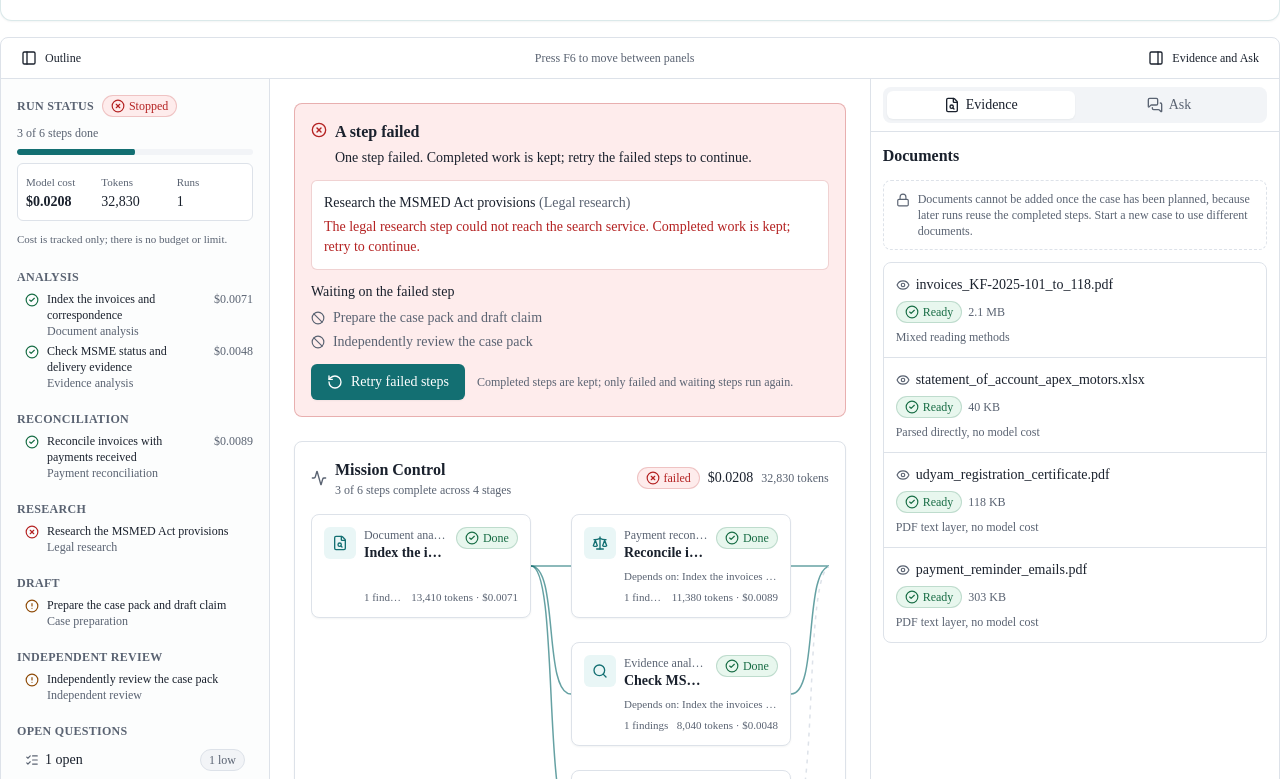
Test: CaseWorkspace › shows the failed step, blocked steps, and retries only what failed
(page scrolled)
Check: the text with test id "task-last-error" shows "The legal research step could not reach the search service. Completed work is kept; retry to continue.", box [324,219,790,254]
Check: the text with test id "run-error" reads "One step failed. Completed work is kept; retry the failed steps to continue.", box [335,150,752,165]
Click the button "Retry failed steps" at (388, 382), box [311,364,465,400]
(page scrolled)
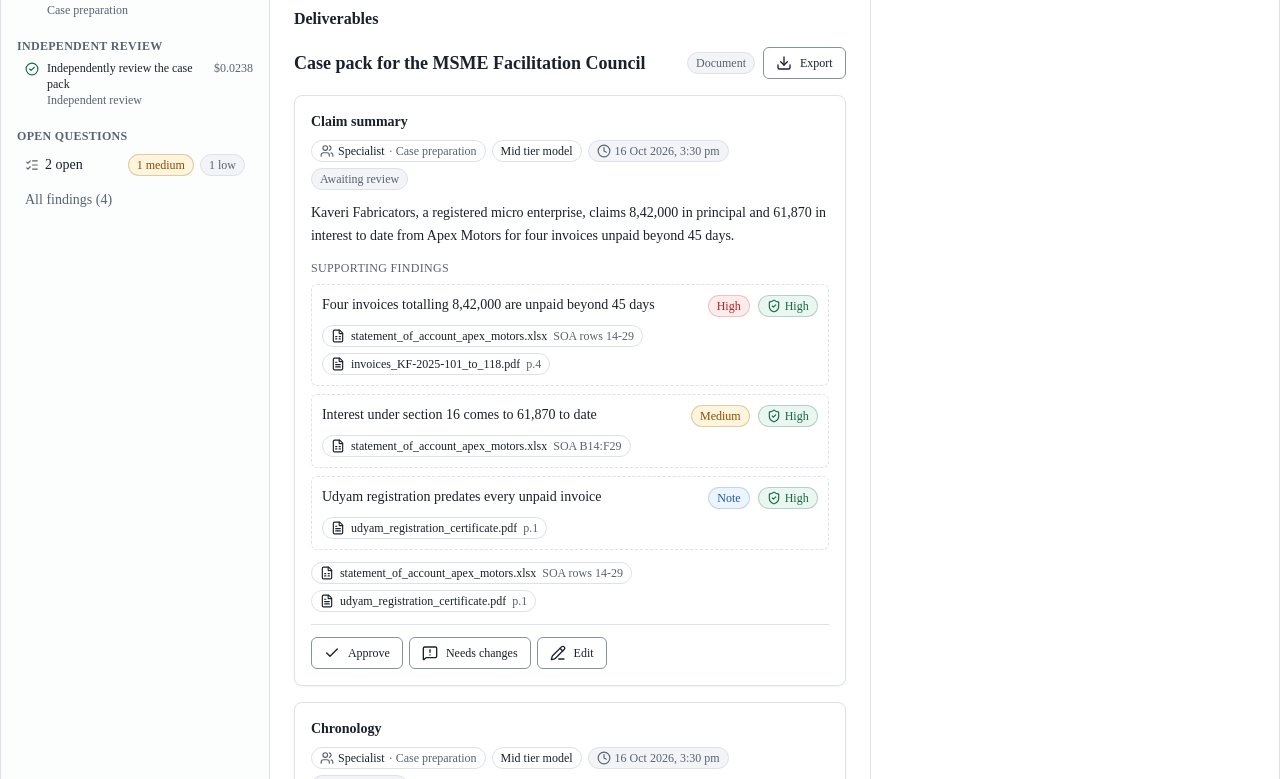
Check: the heading "A step failed" is gone
Check: the element "Claim summary" is shown, box [294,95,846,686]
